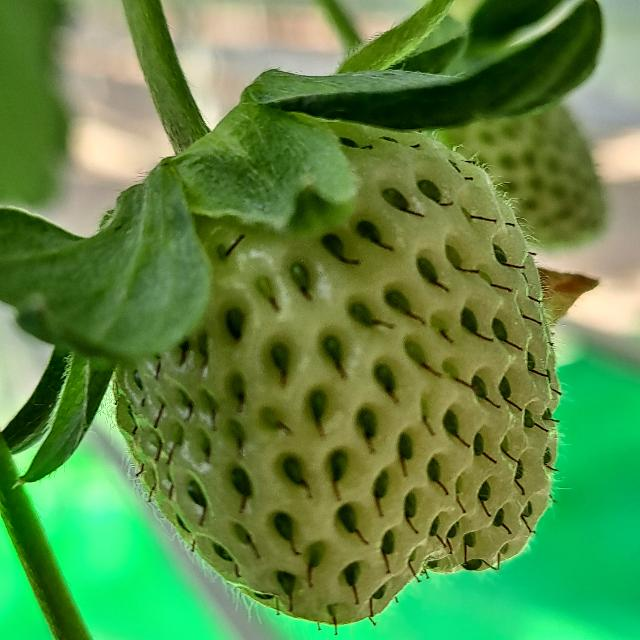Health_25: (112, 121, 560, 625)
